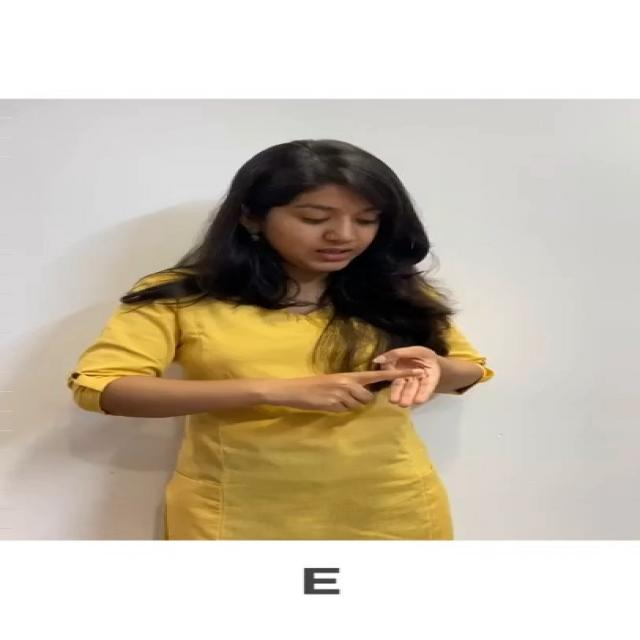E: (262, 342, 465, 425)
